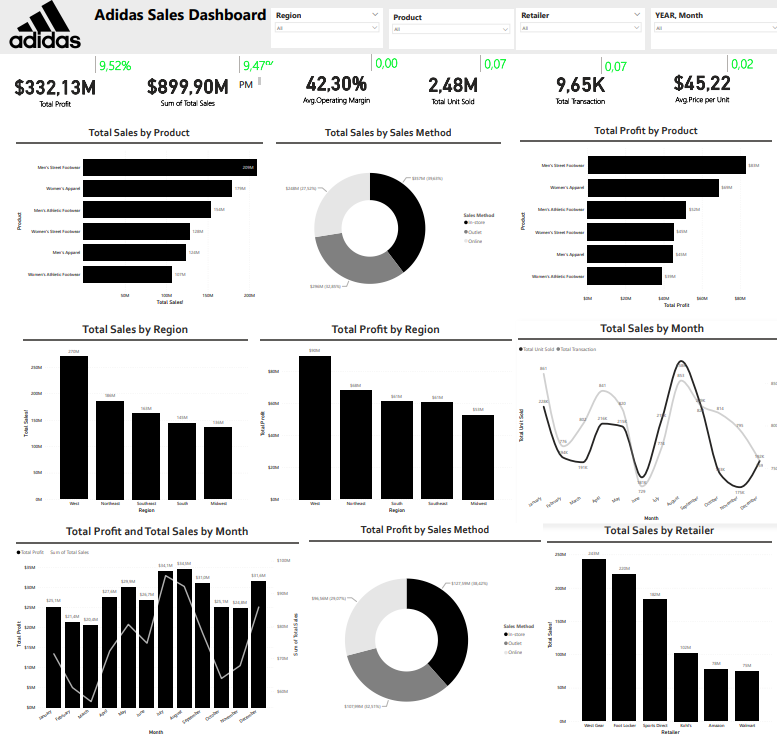

This screenshot's page, from the dashboard's own definition file:
{"tool":"powerbi","page":{"name":"Page 1","canvas":[2200,2200],"ordinal":0},"visuals":[{"type":"textbox","box":[0,0,2187.8,156.1],"z":0},{"type":"clusteredBarChart","title":"Total Sales by Product","fields":{"Category":["Data Sales Adidas.Product"],"Y":["Data Sales Adidas.Total Sales!"]},"box":[50,357.4,693.5,502.7],"z":1000,"group":"g1"},{"type":"card","fields":{"Values":["Data Sales Adidas.Total Transaction"]},"box":[1465.6,187.5,315.6,121.9],"z":1000},{"type":"card","fields":{"Values":["Data Sales Adidas.Total Unit Sold"]},"box":[1093.8,190.6,353.1,118.8],"z":2000},{"type":"donutChart","title":"Total Sales by Sales Method","fields":{"Category":["Data Sales Adidas.Sales Method"],"Y":["Sum(Data Sales Adidas.Total Sales)"]},"box":[771.1,357.4,635.2,514.5],"z":3000,"group":"g1"},{"type":"lineStackedColumnComboChart","title":"Total Sales by Retailer","fields":{"Category":["Data Sales Adidas.Retailer"],"Y":["Data Sales Adidas.Total Sales!"]},"box":[1525,1462.5,634.4,593.8],"z":3000},{"type":"card","fields":{"Values":["Data Sales Adidas.Total Profit"]},"box":[0,196.9,328.1,118.8],"z":4000},{"type":"image","box":[33.5,0,207.8,150.8],"z":5000},{"type":"card","fields":{"Values":["Sum(Data Sales Adidas.Total Sales)"]},"box":[325.6,186,414,137.2],"z":6000},{"type":"clusteredColumnChart","title":"Total Sales by Region","fields":{"Y":["Data Sales Adidas.Total Sales!"],"Category":["Location.Region"]},"box":[70.9,901.6,634.4,537.5],"z":7000},{"type":"card","fields":{"Values":["Data Sales Adidas.Avg.Price per Unit"]},"box":[1803.1,184.4,318.8,121.9],"z":8000},{"type":"group","id":"g1","title":"Group 4","box":[50,350,2109.4,521.9],"z":9000},{"type":"clusteredBarChart","fields":{"Category":["Data Sales Adidas.Product"],"Y":["Data Sales Adidas.Total Profit"]},"box":[1450.5,350,708.9,517.5],"z":9002,"group":"g1"},{"type":"multiRowCard","fields":{"Values":["Data Sales Adidas.TotalSales MoM"]},"box":[668.8,159.4,143.8,62.5],"z":10000},{"type":"columnChart","fields":{"Category":["Location.Region"],"Y":["Data Sales Adidas.Total Profit"]},"box":[728.1,903.1,709.4,537.5],"z":11000},{"type":"slicer","fields":{"Values":["Location.Region"]},"box":[765.6,31.2,309.4,109.4],"z":12000},{"type":"lineStackedColumnComboChart","title":"Total Profit and Total Sales by Month","fields":{"Category":["DateTable.Month"],"Y":["Data Sales Adidas.Total Profit"],"Y2":["Sum(Data Sales Adidas.Total Sales)"]},"box":[50,1465.6,793.8,590.6],"z":13000},{"type":"slicer","fields":{"Values":["Product.Product"]},"box":[1090.6,34.4,346.9,109.4],"z":14000},{"type":"slicer","fields":{"Values":["Data Sales Adidas.Retailer"]},"box":[1446.9,31.2,356.2,115.6],"z":15000},{"type":"lineChart","title":"Total Sales by Month","fields":{"Y":["Data Sales Adidas.Total Unit Sold"],"Category":["DateTable.Month"],"Y2":["Data Sales Adidas.Total Transaction"]},"box":[1446.9,900,753.1,562.5],"z":16000},{"type":"card","fields":{"Values":["Data Sales Adidas.Avg.Operating Margin"]},"box":[743.8,187.5,403.1,115.6],"z":17000},{"type":"donutChart","fields":{"Y":["Data Sales Adidas.Total Profit"],"Category":["Data Sales Adidas.Sales Method"]},"box":[865.6,1462.5,653.1,593.8],"z":18000},{"type":"slicer","fields":{"Values":["DateTable.YEAR","DateTable.Month"]},"box":[1818.8,31.2,368.8,112.5],"z":19000},{"type":"textbox","box":[668.8,218.8,71.9,37.5],"z":20000},{"type":"multiRowCard","fields":{"Values":["Data Sales Adidas.AVG.Price MoM"]},"box":[2025,156.2,162.5,93.8],"z":21000},{"type":"multiRowCard","fields":{"Values":["Data Sales Adidas.Transaction MoM"]},"box":[1675,162.5,128.1,68.8],"z":22000},{"type":"multiRowCard","fields":{"Values":["Data Sales Adidas.Total Unit Sold MoM"]},"box":[1340.6,156.2,131.2,68.8],"z":23000},{"type":"multiRowCard","fields":{"Values":["Data Sales Adidas.Avg.Margin MoM"]},"box":[1037.5,153.1,137.5,65.6],"z":24000},{"type":"multiRowCard","fields":{"Values":["Data Sales Adidas.Profit MoM"]},"box":[268.8,159.4,159.4,81.2],"z":25000}]}

Visuals, with their boxes on the page's 2200x2200 design canvas (x1, y1, x2, y2). These are canvas units, not pixel positions in the 777x746 screenshot, which may show the page scaled, cropped or inside an application window:
textbox: bbox=(0, 0, 2188, 156)
"Total Sales by Product" clusteredBarChart: bbox=(50, 357, 744, 860)
card - Data Sales Adidas.Total Transaction: bbox=(1466, 188, 1781, 309)
card - Data Sales Adidas.Total Unit Sold: bbox=(1094, 191, 1447, 309)
"Total Sales by Sales Method" donutChart: bbox=(771, 357, 1406, 872)
"Total Sales by Retailer" lineStackedColumnComboChart: bbox=(1525, 1462, 2159, 2056)
card - Data Sales Adidas.Total Profit: bbox=(0, 197, 328, 316)
image: bbox=(34, 0, 241, 151)
card - Sum(Data Sales Adidas.Total Sales): bbox=(326, 186, 740, 323)
"Total Sales by Region" clusteredColumnChart: bbox=(71, 902, 705, 1439)
card - Data Sales Adidas.Avg.Price per Unit: bbox=(1803, 184, 2122, 306)
"Group 4" group: bbox=(50, 350, 2159, 872)
clusteredBarChart - Data Sales Adidas.Product x Data Sales Adidas.Total Profit: bbox=(1450, 350, 2159, 868)
multiRowCard - Data Sales Adidas.TotalSales MoM: bbox=(669, 159, 813, 222)
columnChart - Location.Region x Data Sales Adidas.Total Profit: bbox=(728, 903, 1438, 1441)
slicer - Location.Region: bbox=(766, 31, 1075, 141)
"Total Profit and Total Sales by Month" lineStackedColumnComboChart: bbox=(50, 1466, 844, 2056)
slicer - Product.Product: bbox=(1091, 34, 1438, 144)
slicer - Data Sales Adidas.Retailer: bbox=(1447, 31, 1803, 147)
"Total Sales by Month" lineChart: bbox=(1447, 900, 2200, 1462)
card - Data Sales Adidas.Avg.Operating Margin: bbox=(744, 188, 1147, 303)
donutChart - Data Sales Adidas.Total Profit x Data Sales Adidas.Sales Method: bbox=(866, 1462, 1519, 2056)
slicer - DateTable.YEAR x DateTable.Month: bbox=(1819, 31, 2188, 144)
textbox: bbox=(669, 219, 741, 256)
multiRowCard - Data Sales Adidas.AVG.Price MoM: bbox=(2025, 156, 2188, 250)
multiRowCard - Data Sales Adidas.Transaction MoM: bbox=(1675, 162, 1803, 231)
multiRowCard - Data Sales Adidas.Total Unit Sold MoM: bbox=(1341, 156, 1472, 225)
multiRowCard - Data Sales Adidas.Avg.Margin MoM: bbox=(1038, 153, 1175, 219)
multiRowCard - Data Sales Adidas.Profit MoM: bbox=(269, 159, 428, 241)
